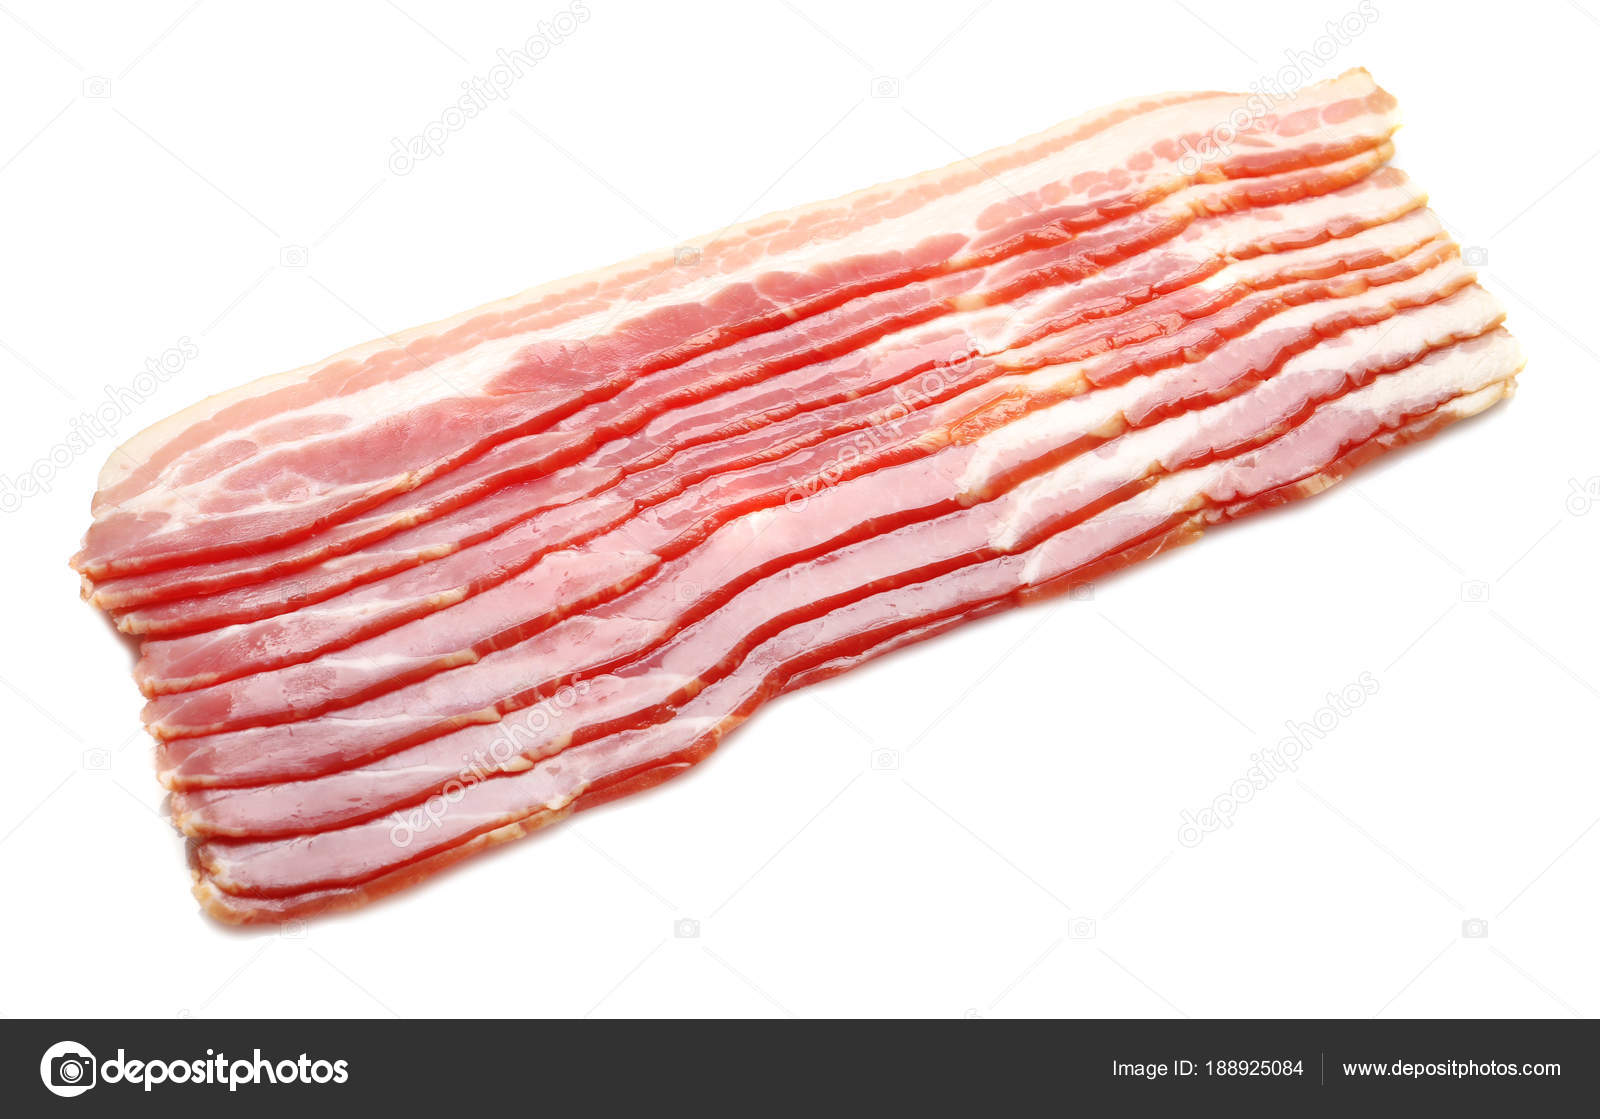bacon: (52, 73, 1533, 865)
